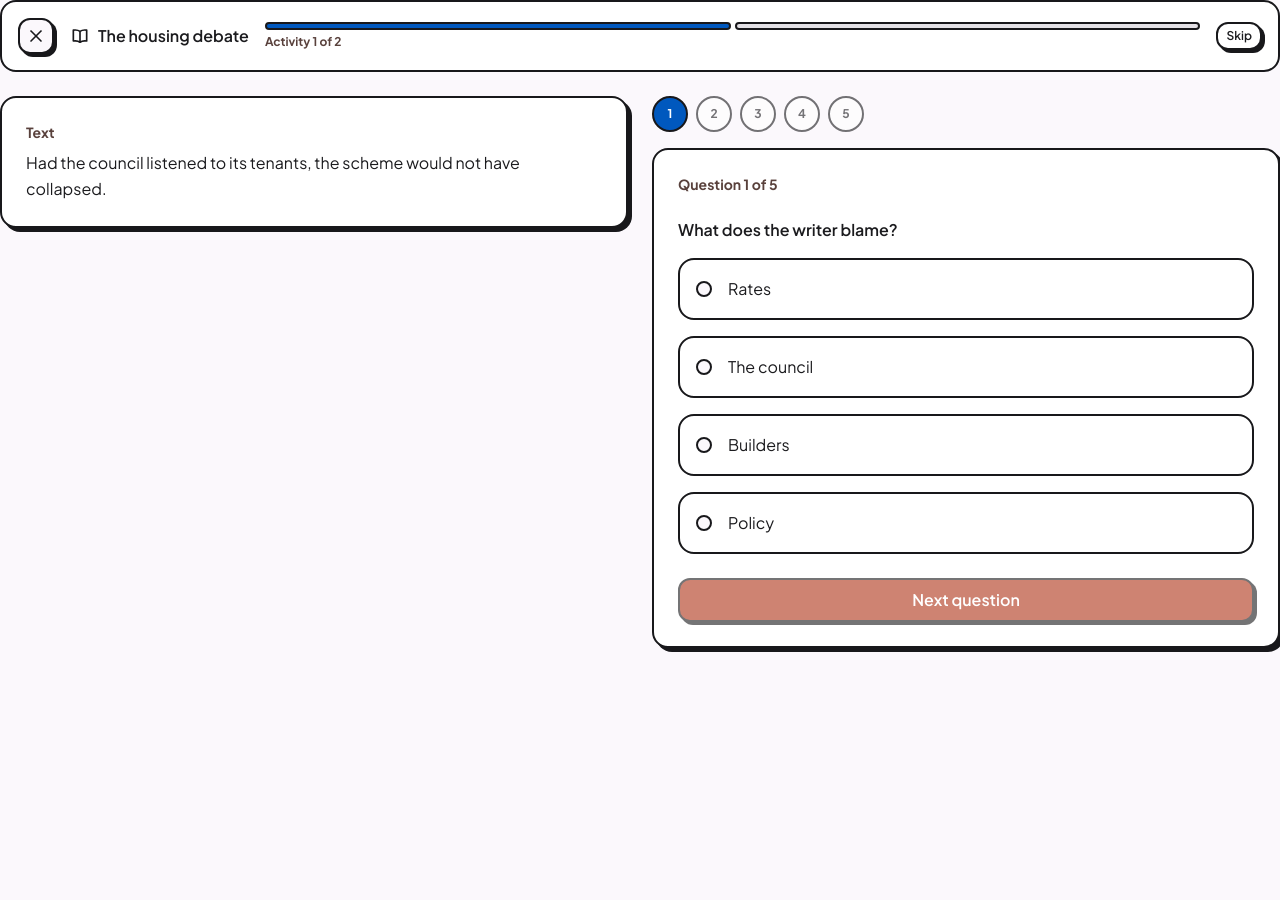
ObjectiveRunner: answering › unscored_questions_show_their_message_and_need_no_answer
The width and height of the screenshot is (1280, 900).
Expected: the element showing "Rates The council Builders Policy" is shown, [678,258,1254,554]
Click the radio button labelled "The council": (771, 366) [678,336,1254,398]
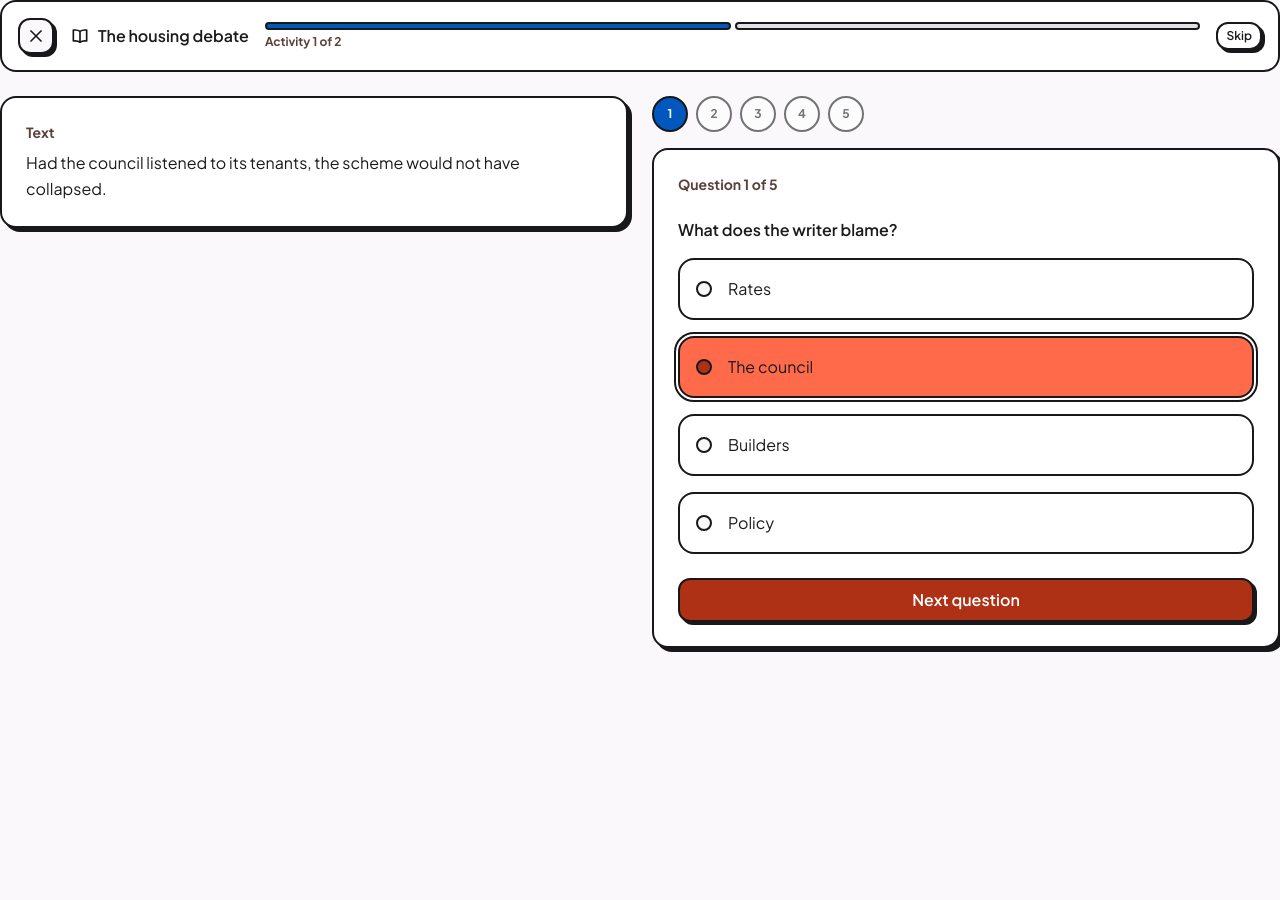
Click the button "Next question": (966, 600) [678,578,1254,622]
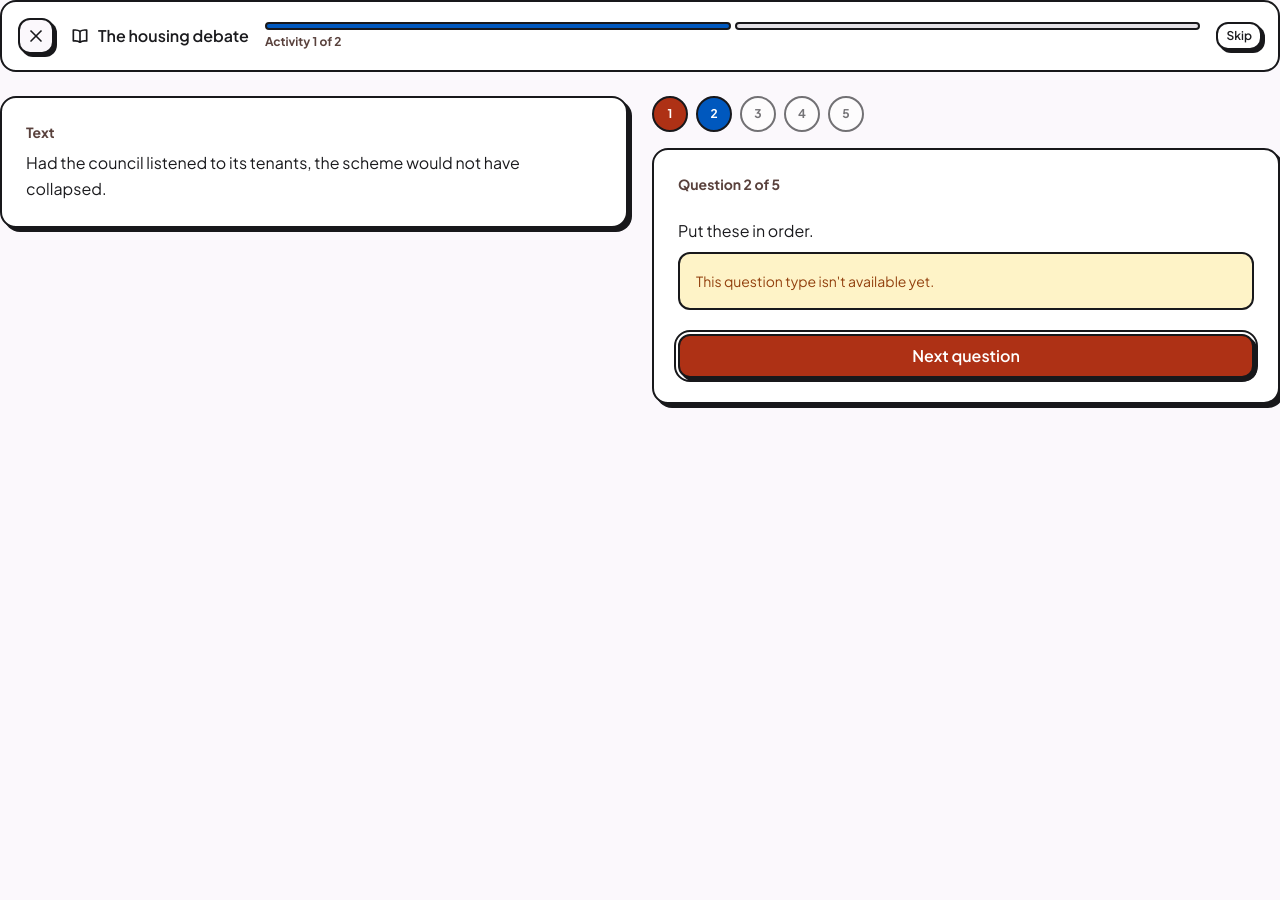
Now the button "Next question" is enabled
Now the text "This question type isn't available yet." is shown, box [678,252,1254,310]
Click the button "Next question": (966, 356) [678,334,1254,378]
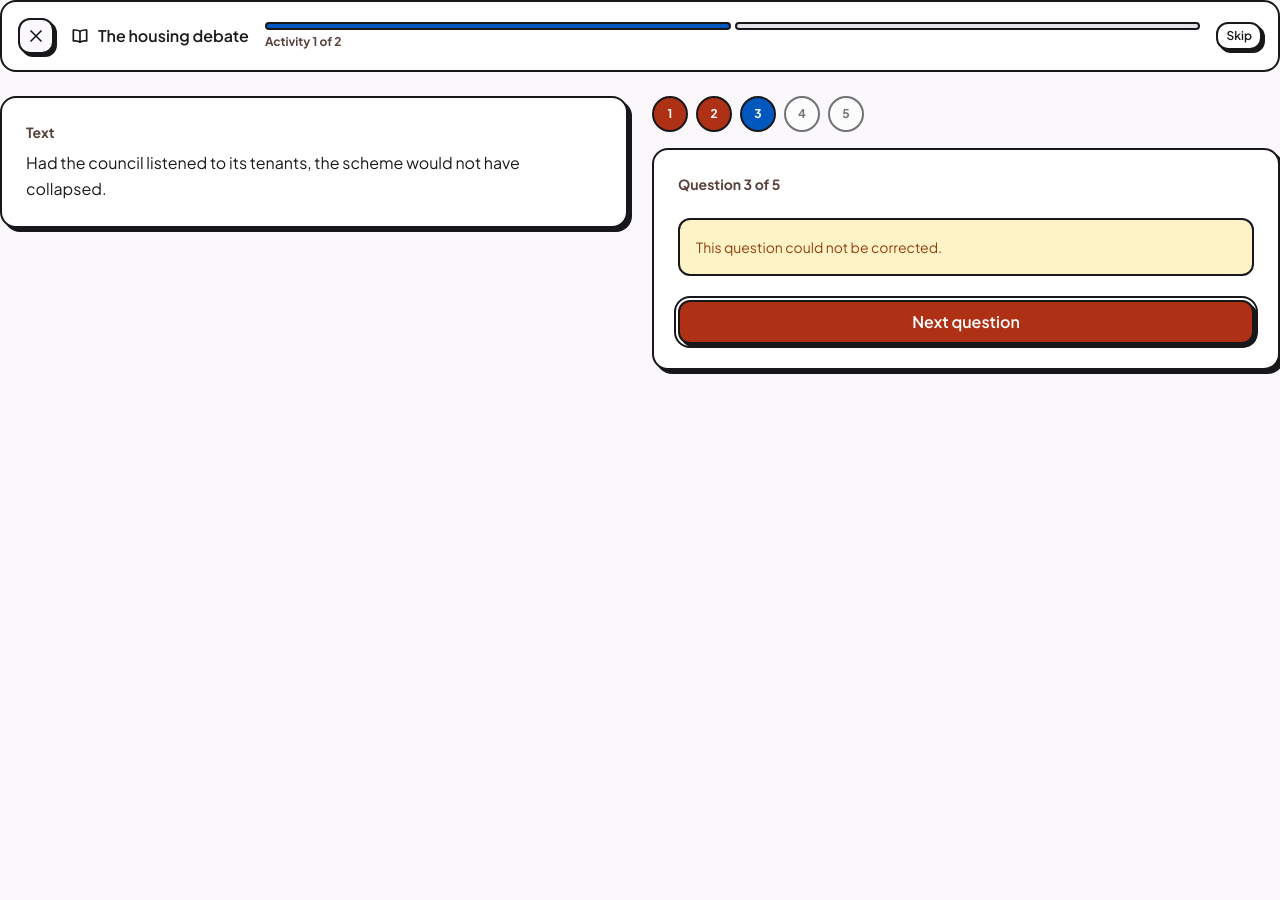
Now the button "Next question" is enabled, box [678,300,1254,344]
Now the text "This question could not be corrected." is shown, box [678,218,1254,276]
